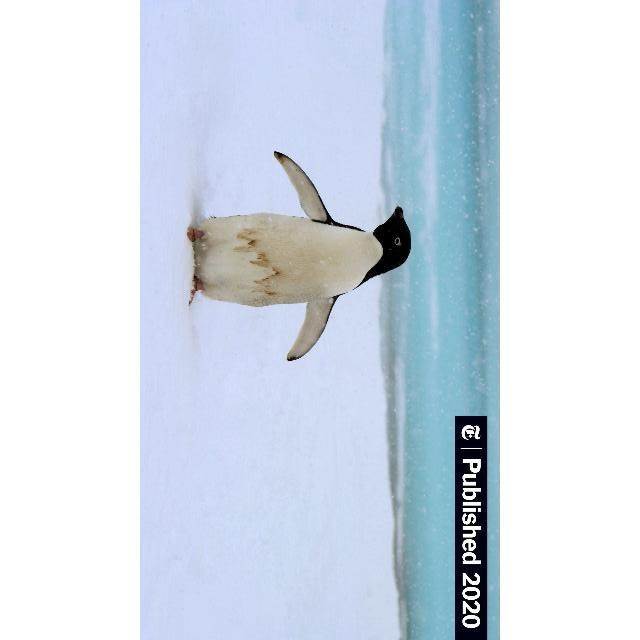penguin: (186, 151, 412, 362)
